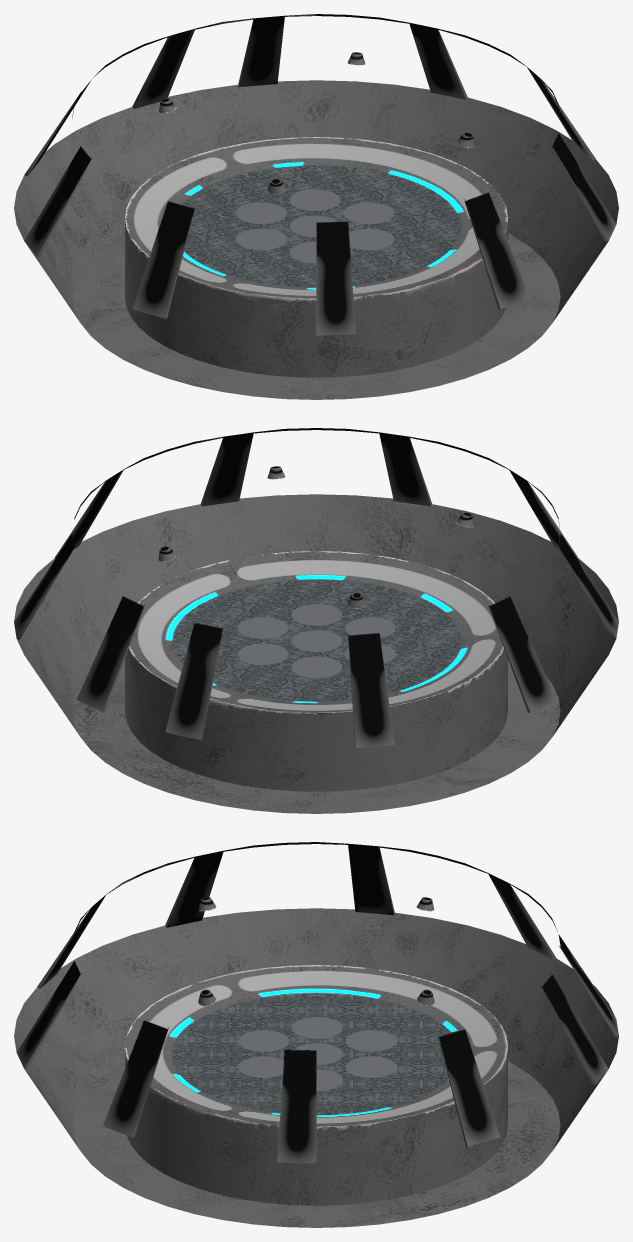
File: Fighting Stage.gltf
The picture shows the model from 3 angles, top to bottom: view 1: azimuth 30°, elevation 25°; view 2: azimuth 150°, elevation 25°; view 3: azimuth 270°, elevation 25°; orthographic projection.
Parts seen in each view (by area): view 1: Mesh; view 2: Mesh; view 3: Mesh.
Boxes of the visible parts, x1=… form: Mesh: x1=14, y1=14, x2=618, y2=399; Mesh: x1=14, y1=428, x2=618, y2=813; Mesh: x1=14, y1=842, x2=618, y2=1227.
Bounding box in the file's own units: 51.85 × 17.06 × 51.85.
2 materials, 2 textured.
